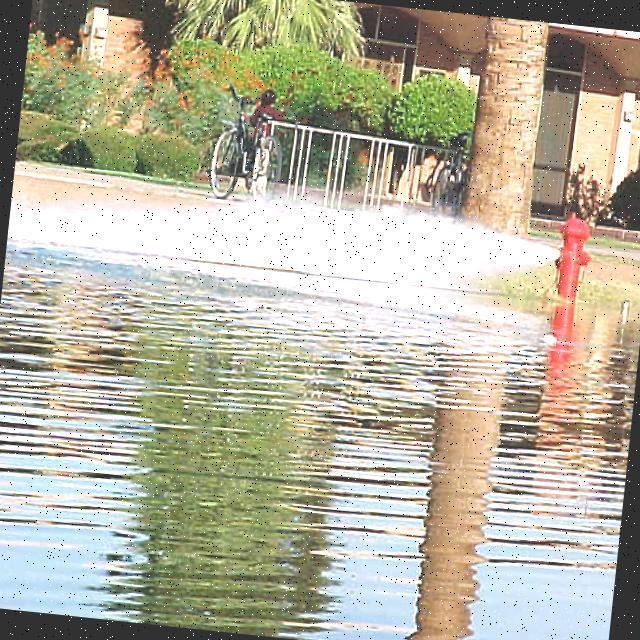fire_hydrant: (549, 209, 595, 304)
